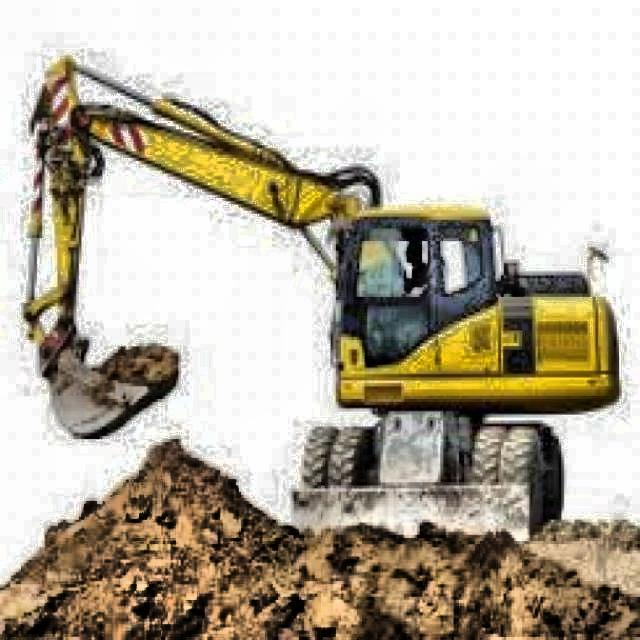bull_dozer/loader/grader: (17, 49, 624, 550)
person: (404, 237, 429, 296)
